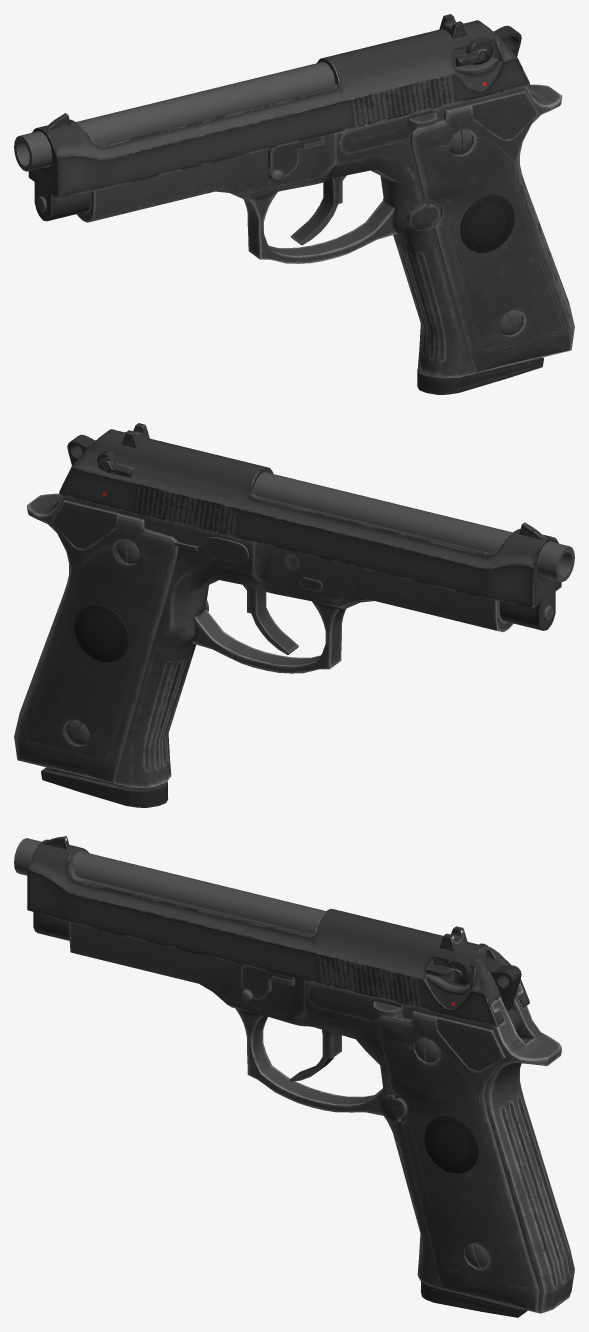
Rendered from pistol.glb.
3 views of the same model, one above another, from view 1: azimuth 30°, elevation 25°; view 2: azimuth 150°, elevation 25°; view 3: azimuth 330°, elevation 25° (orthographic).
Parts seen in each view (by area): view 1: pistol (×2); view 2: pistol (×2); view 3: pistol (×2).
Boxes of the visible parts, x1=… form: pistol (×2): x1=14, y1=14, x2=574, y2=394; pistol (×2): x1=14, y1=423, x2=574, y2=807; pistol (×2): x1=14, y1=836, x2=574, y2=1317.
Size of the model in its own units: 461 by 297 by 62.54.
2 materials, 2 textured.
